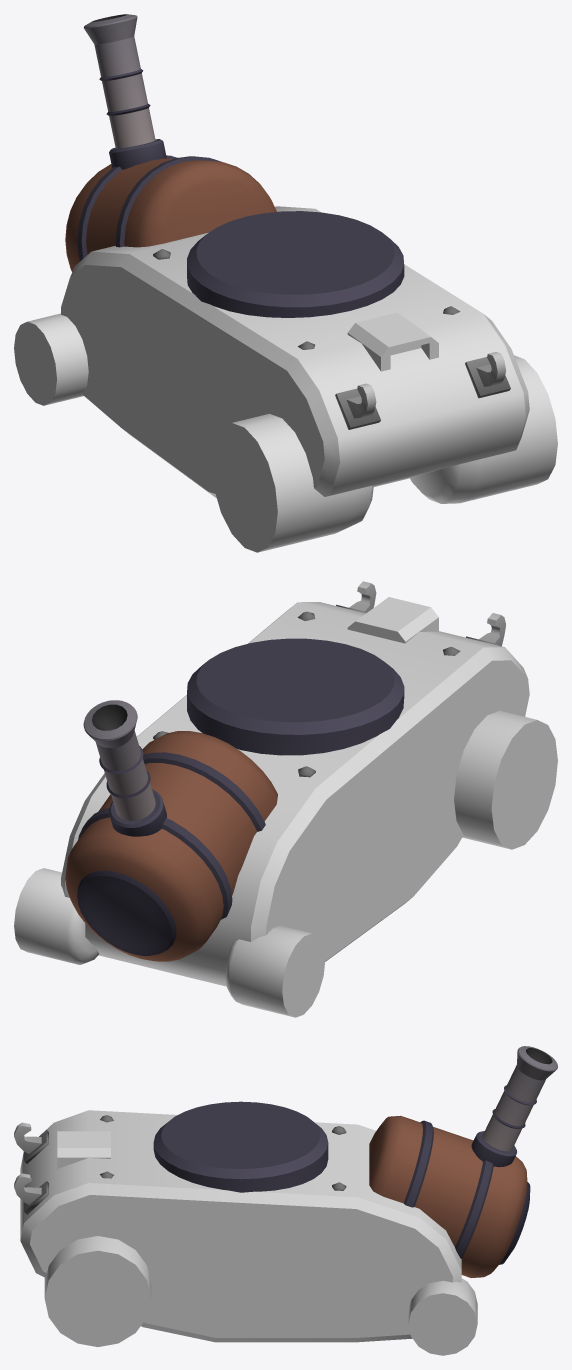
File: tankBody.fbx
3 views of the same model, one above another, from view 1: azimuth 30°, elevation 25°; view 2: azimuth 150°, elevation 25°; view 3: azimuth 270°, elevation 25° (orthographic). The views are drawn at different scales.
Parts seen in each view (by area): view 1: Body, tube; view 2: Body, tube; view 3: Body, tube.
Part boxes in pixels (x1,y1,x2,y2): Body: [14, 155, 557, 552]; tube: [84, 14, 166, 169]; Body: [14, 581, 557, 1017]; tube: [83, 700, 166, 836]; Body: [14, 1101, 530, 1355]; tube: [471, 1046, 557, 1167].
Bounding box in the file's own units: 292 × 318 × 613.
